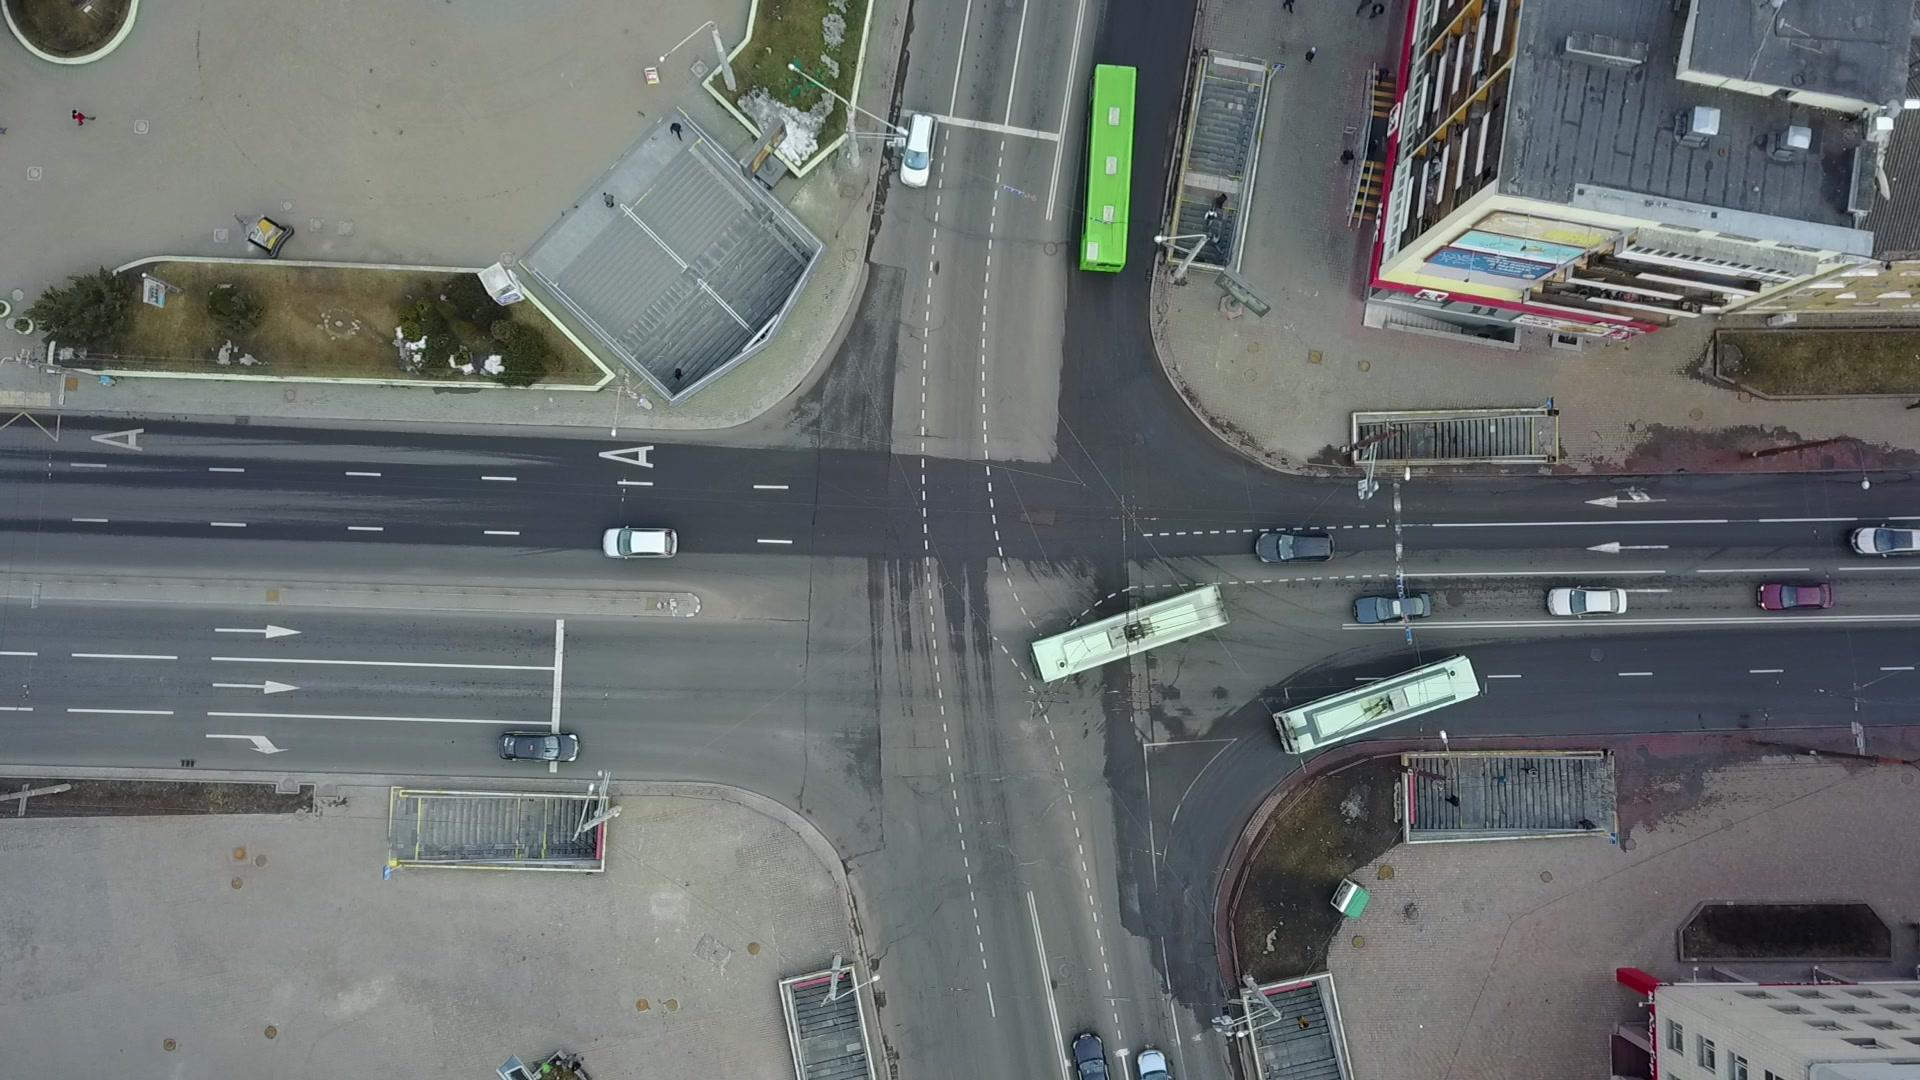car: (895, 103, 940, 196), (1250, 530, 1336, 564), (498, 729, 582, 764), (1545, 583, 1627, 617), (601, 525, 679, 560), (1847, 521, 1917, 558), (1349, 593, 1433, 624), (1755, 580, 1836, 611)
